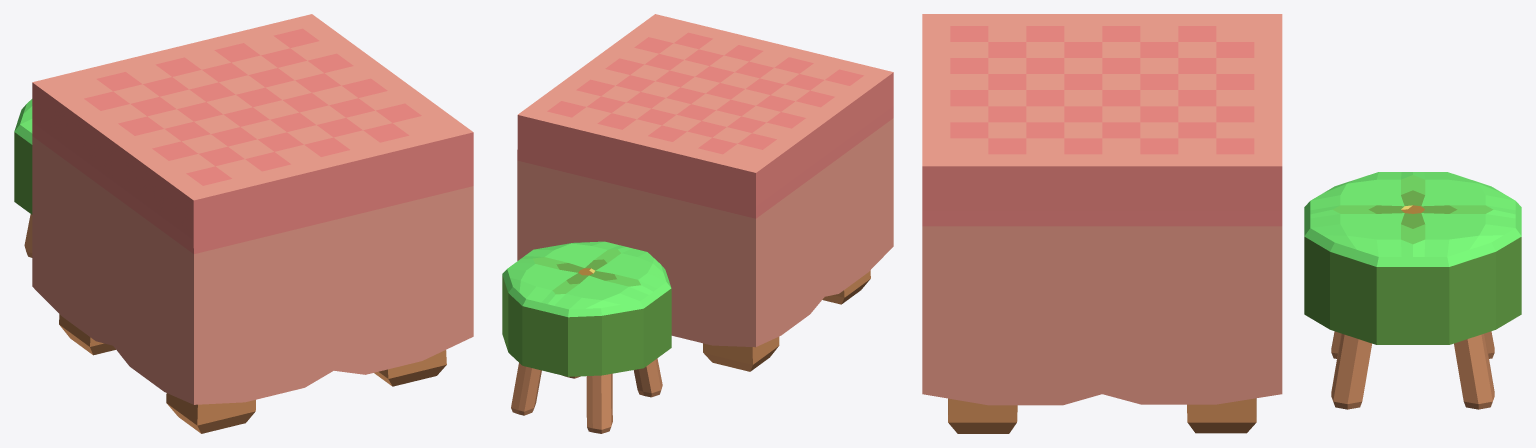
Rendered from chairtableset.fbx.
3 renders of one model, left to right at view 1: azimuth 30°, elevation 25°; view 2: azimuth 150°, elevation 25°; view 3: azimuth 270°, elevation 25°, orthographic. The views are drawn at different scales.
Parts seen in each view (by area): view 1: Cube, Cube.001; view 2: Cube, Cube.001; view 3: Cube, Cube.001.
Part boxes in pixels (x1,y1,x2,y2): Cube: (32, 14, 473, 433); Cube.001: (14, 99, 32, 257); Cube: (517, 14, 893, 371); Cube.001: (502, 241, 671, 433); Cube: (922, 14, 1282, 433); Cube.001: (1304, 172, 1521, 409).
Size of the model in its own units: 190 by 168 by 316.
